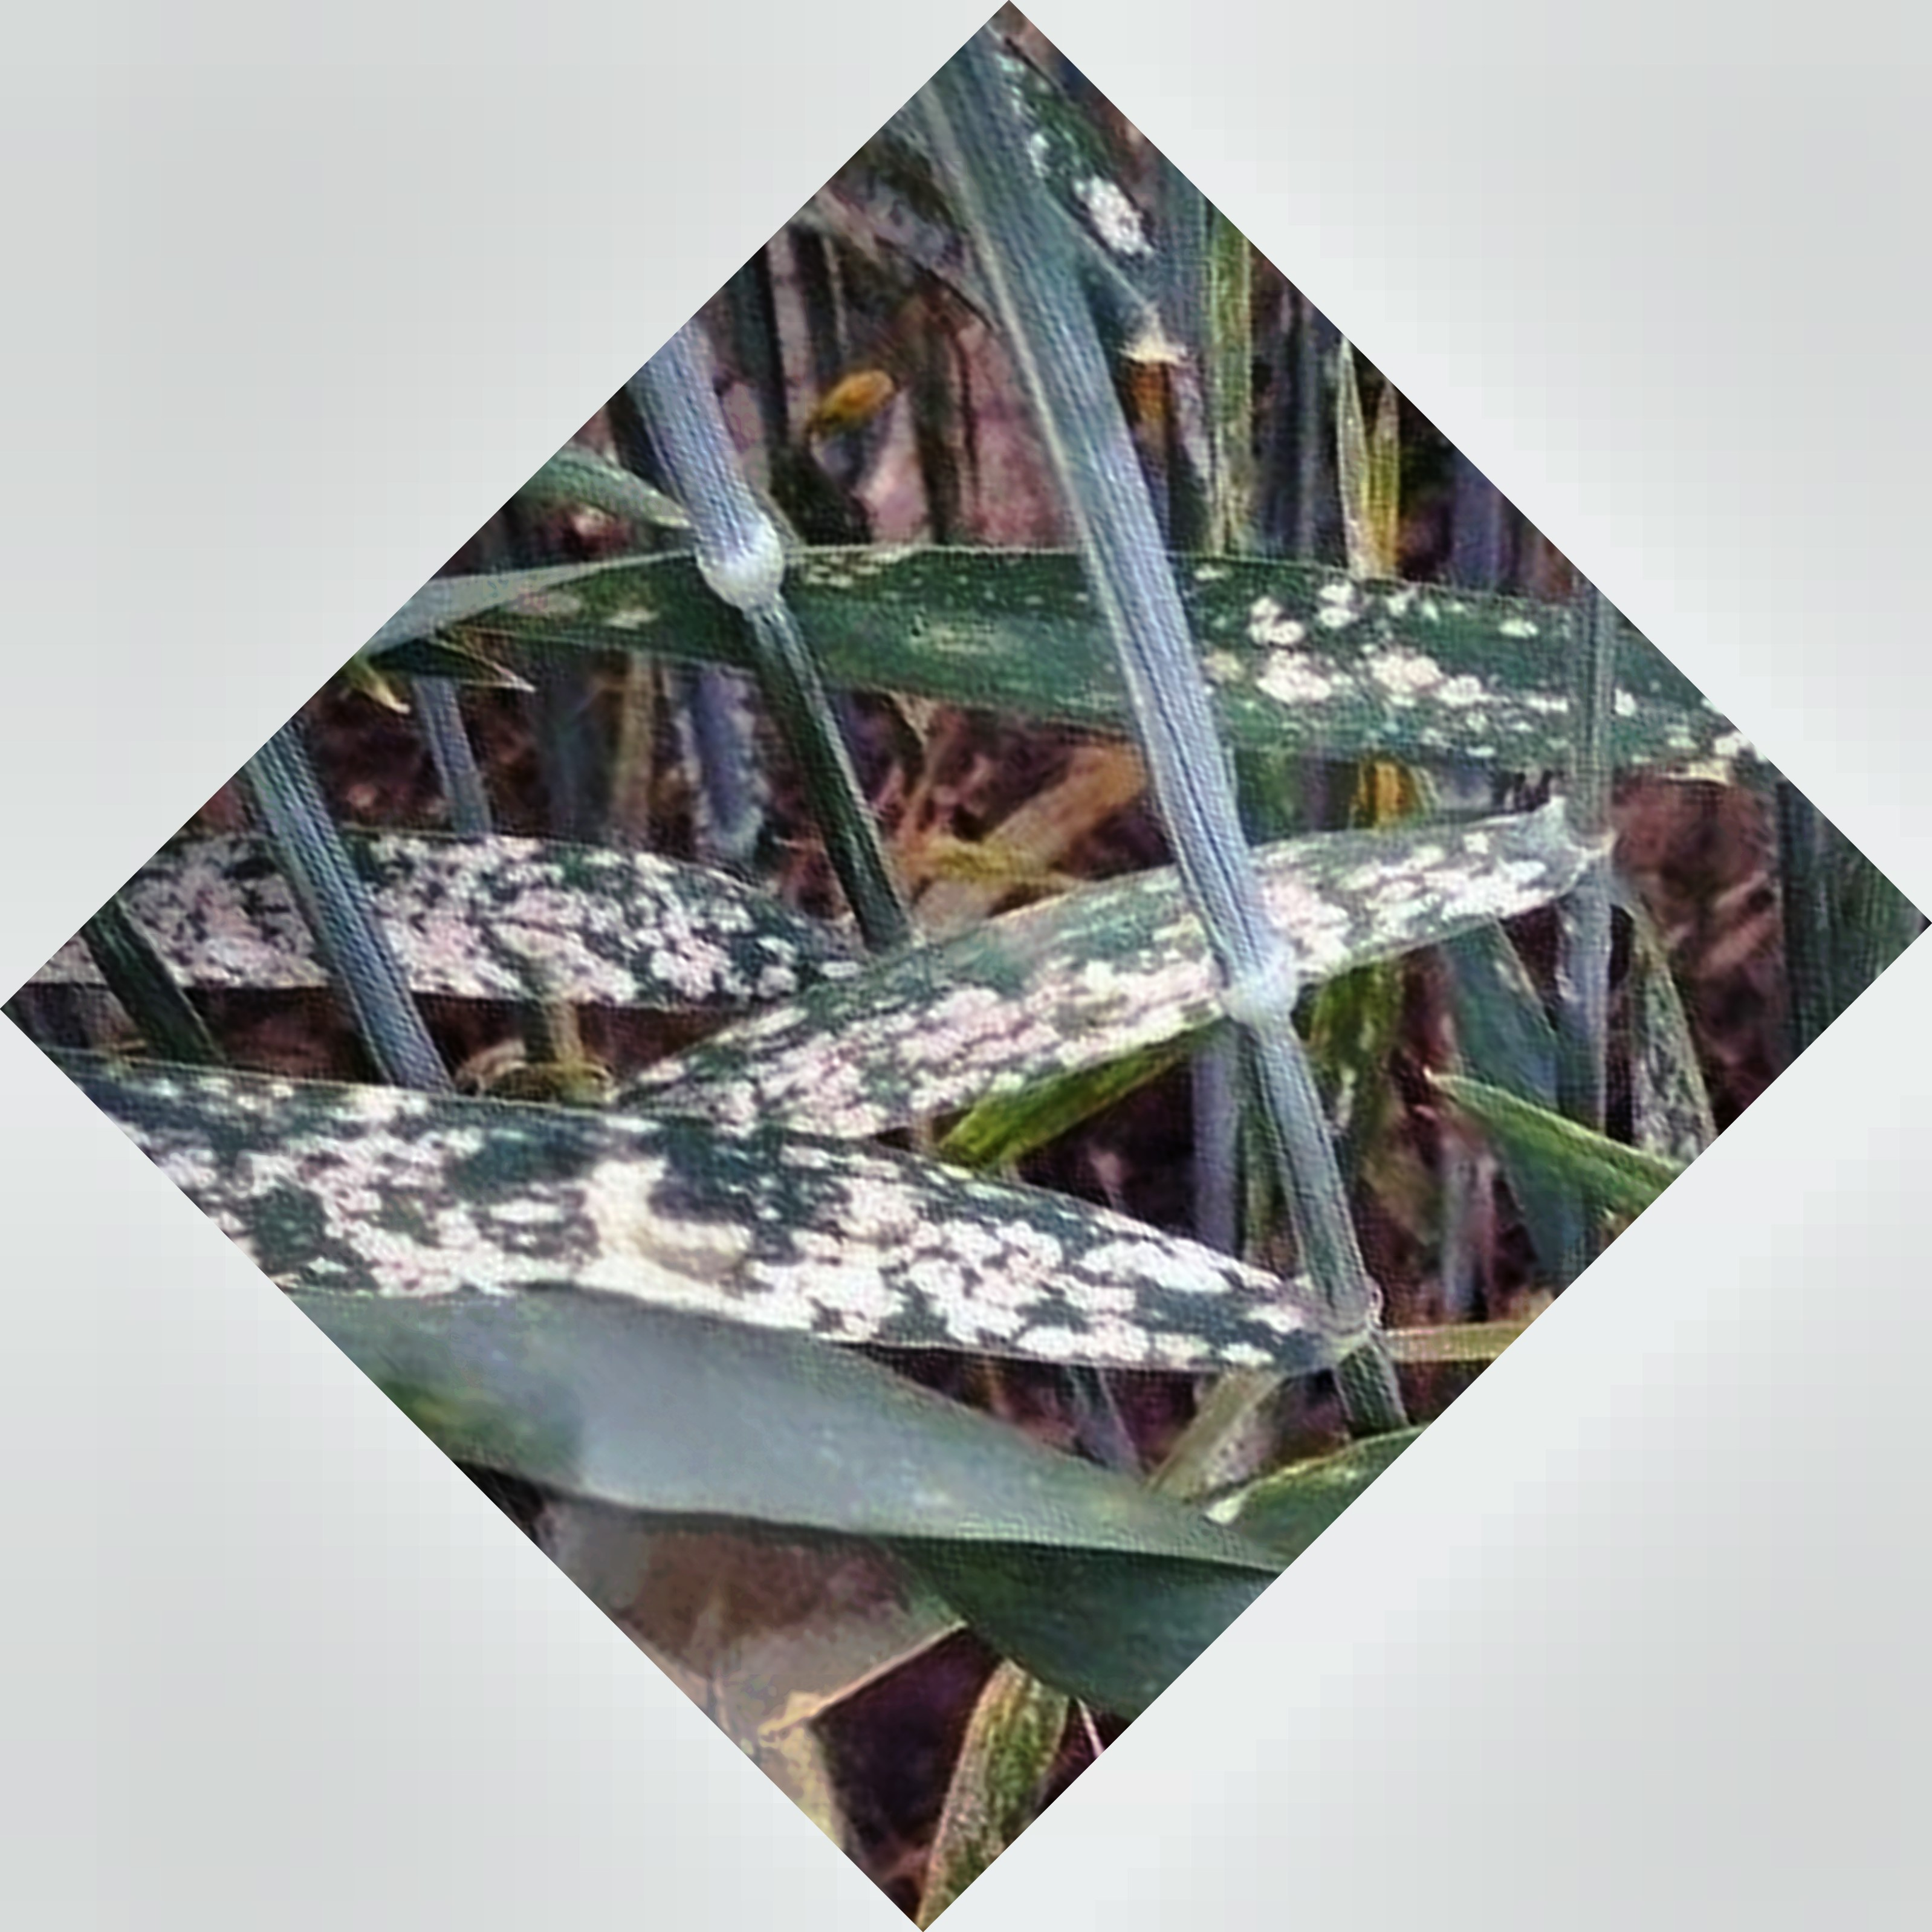Powdery Mildew: (262, 1072, 1231, 1382), (214, 791, 738, 1010), (1196, 556, 1592, 771)
